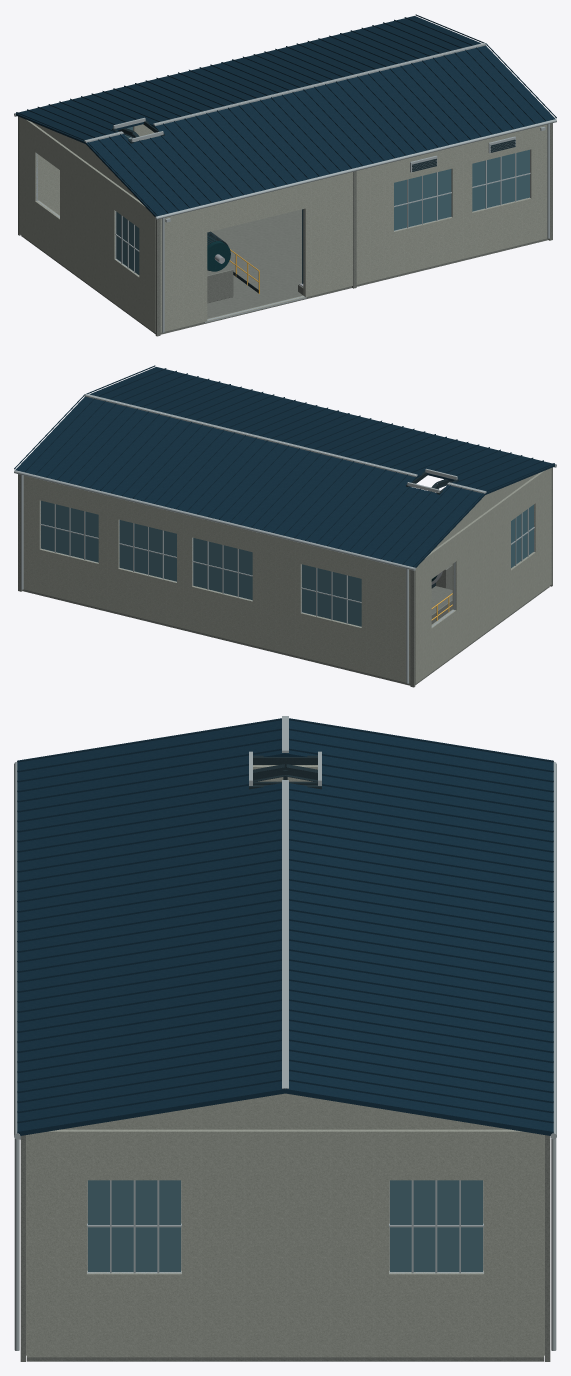
The model's file is mine-hoist-house.glb.
3 views of the same model, one above another, from view 1: azimuth 30°, elevation 25°; view 2: azimuth 150°, elevation 25°; view 3: azimuth 270°, elevation 25° (orthographic). The views are drawn at different scales.
Visible parts, largest first — view 1: Core_roof, Core_wall, Core_concrete, Core_glass, Core_trim, Core_steel, Core_machine; view 2: Core_roof, Core_wall, Core_glass, Core_trim, Core_concrete; view 3: Core_roof, Core_wall, Core_glass, Core_trim, Core_concrete, Core_steel.
Part boxes in pixels (left/top/right/bottom): Core_roof: left=15, top=14, right=556, bottom=216; Core_wall: left=19, top=117, right=547, bottom=332; Core_concrete: left=18, top=116, right=552, bottom=336; Core_glass: left=116, top=127, right=529, bottom=274; Core_trim: left=14, top=15, right=556, bottom=332; Core_steel: left=112, top=120, right=515, bottom=292; Core_machine: left=207, top=233, right=230, bottom=271; Core_roof: left=14, top=365, right=555, bottom=567; Core_wall: left=23, top=468, right=551, bottom=683; Core_glass: left=41, top=500, right=533, bottom=626; Core_trim: left=14, top=366, right=556, bottom=683; Core_concrete: left=18, top=467, right=552, bottom=687; Core_roof: left=17, top=718, right=553, bottom=1135; Core_wall: left=26, top=765, right=544, bottom=1357; Core_glass: left=88, top=1180, right=482, bottom=1271; Core_trim: left=14, top=716, right=556, bottom=1350; Core_concrete: left=20, top=1135, right=550, bottom=1361; Core_steel: left=249, top=755, right=321, bottom=789.
Bounding box in the file's own units: 20.44 × 7.1 × 12.59.
Materials: 10 (5 with a texture image).
